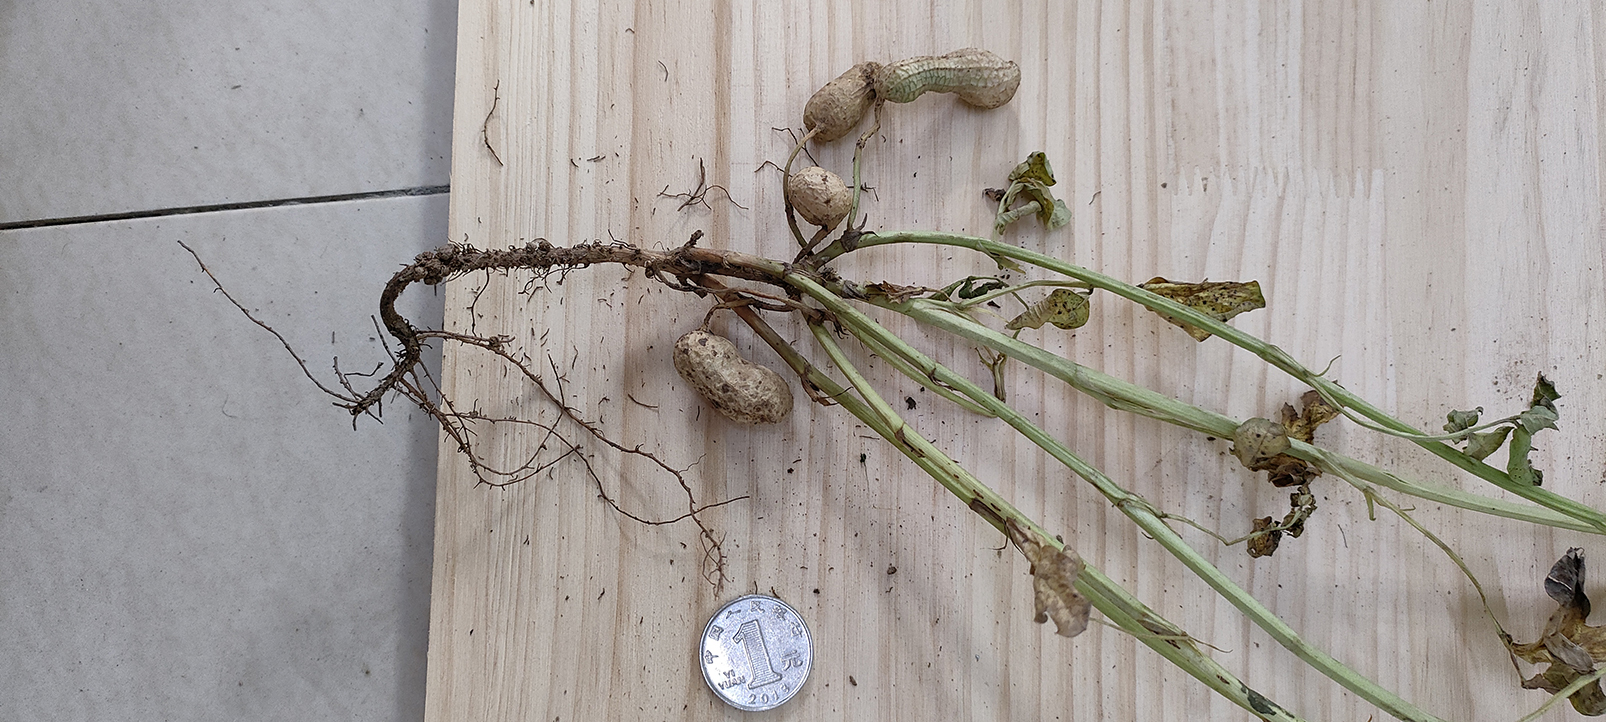h: (674, 331, 793, 424), (878, 48, 1019, 109), (802, 62, 880, 143), (787, 169, 851, 226)
